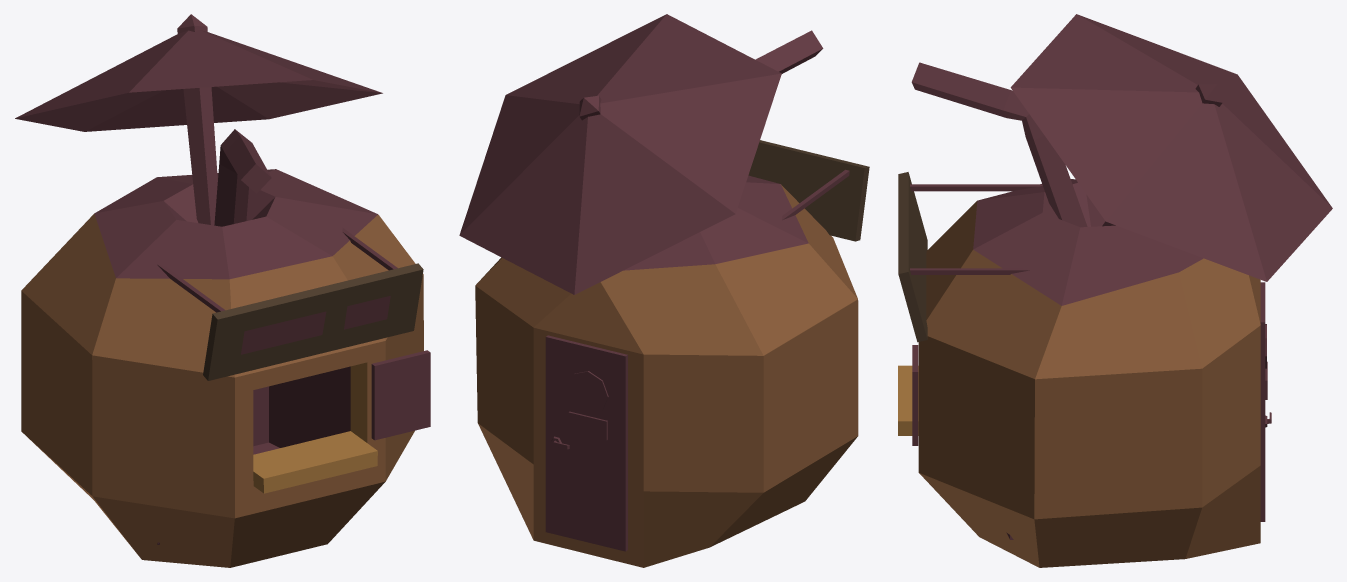
Rendered from coconut-stall.fbx.
The picture shows the model from 3 angles, left to right: view 1: azimuth 30°, elevation 25°; view 2: azimuth 150°, elevation 25°; view 3: azimuth 270°, elevation 25°; orthographic projection. The views are drawn at different scales.
Parts seen in each view (by area): view 1: coconut-stall; view 2: coconut-stall; view 3: coconut-stall.
Part boxes in pixels (bbox=[...]): coconut-stall: bbox=[15, 14, 430, 567]; coconut-stall: bbox=[459, 14, 869, 567]; coconut-stall: bbox=[898, 14, 1332, 567].
Size of the model in its own units: 3.27 by 4.27 by 3.73.
